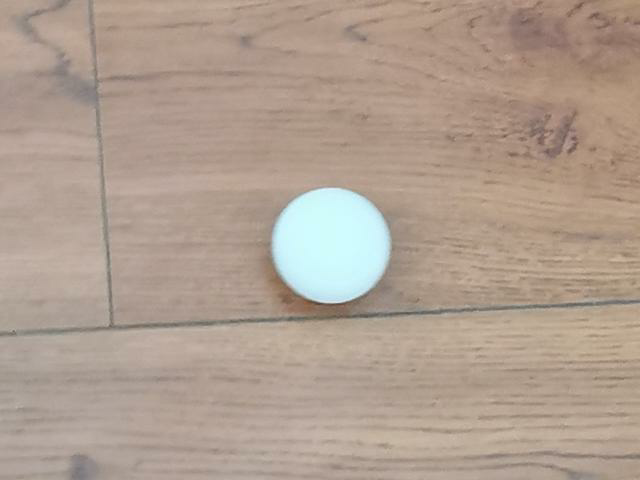ball: (272, 187, 391, 305)
